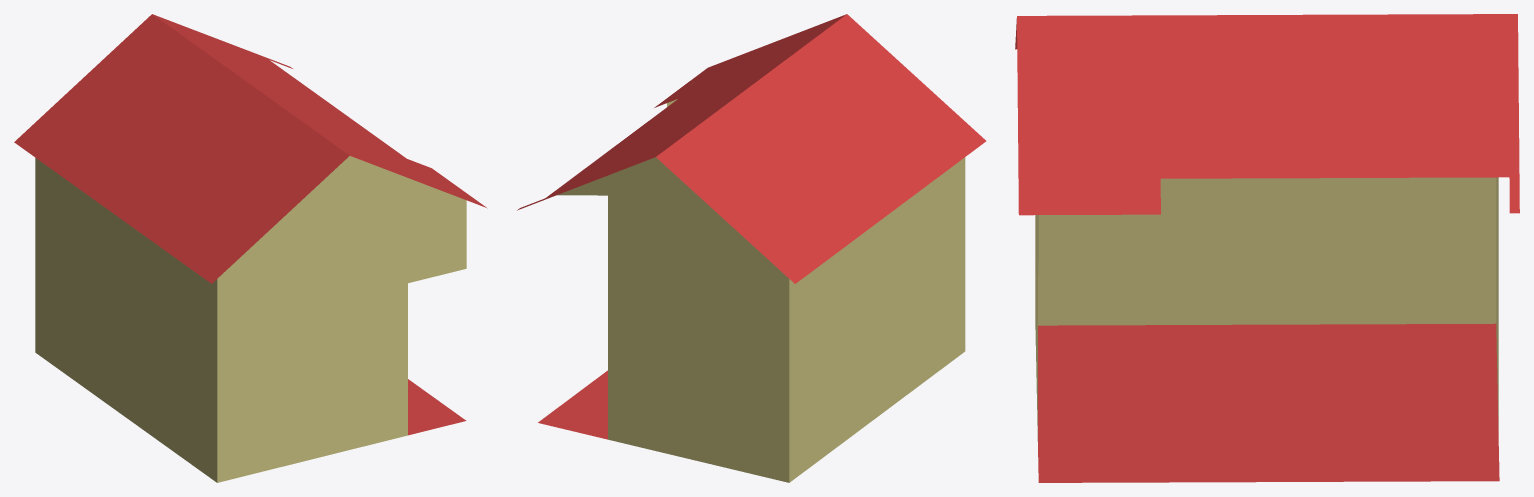
3 renders of one model, left to right at view 1: azimuth 30°, elevation 25°; view 2: azimuth 150°, elevation 25°; view 3: azimuth 270°, elevation 25°, orthographic. The views are drawn at different scales.
Bounding box in the file's own units: 10.39 × 12.57 × 10.67.
